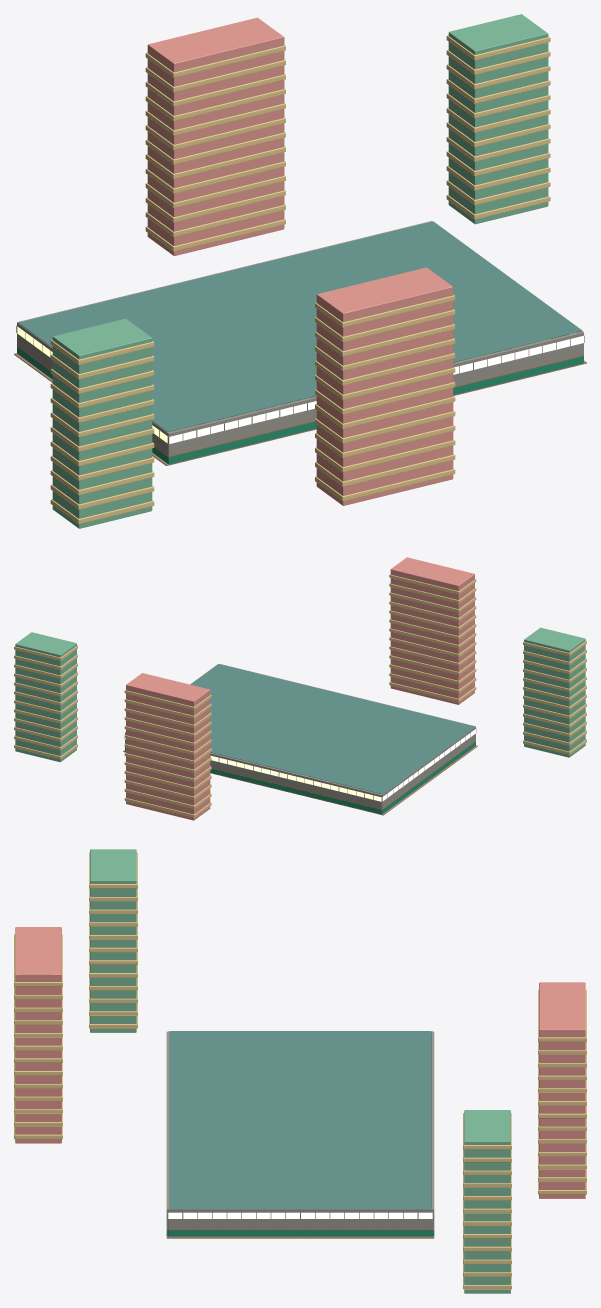
The model's file is wetmarket_lit.glb.
3 views of the same model, one above another, from view 1: azimuth 30°, elevation 25°; view 2: azimuth 150°, elevation 25°; view 3: azimuth 270°, elevation 25° (orthographic). The views are drawn at different scales.
Visible parts, largest first — view 1: MAP__hdb_b, ROOF__roof, MAP__hdb_band, MAP__hdb_a, MAP__wall, MAP__tile_green, MAP__glass, MAP__floor; view 2: ROOF__roof, MAP__hdb_b, MAP__hdb_band, MAP__hdb_a, MAP__wall, MAP__tile_green, MAP__glass, MAP__floor; view 3: ROOF__roof, MAP__hdb_b, MAP__hdb_band, MAP__hdb_a, MAP__wall, MAP__tile_green, MAP__glass, MAP__floor.
Part boxes in pixels (x1,y1,x2,y2): MAP__hdb_b: [147, 17, 453, 505]; ROOF__roof: [18, 221, 582, 432]; MAP__hdb_band: [50, 35, 550, 523]; MAP__hdb_a: [52, 14, 548, 528]; MAP__wall: [16, 221, 584, 456]; MAP__tile_green: [17, 337, 583, 464]; MAP__glass: [17, 326, 583, 443]; MAP__floor: [14, 344, 586, 465]; ROOF__roof: [190, 664, 474, 794]; MAP__hdb_b: [126, 557, 474, 820]; MAP__hdb_band: [14, 574, 586, 817]; MAP__hdb_a: [15, 627, 585, 762]; MAP__wall: [124, 663, 476, 809]; MAP__tile_green: [125, 741, 475, 814]; MAP__glass: [125, 729, 475, 801]; MAP__floor: [123, 745, 477, 815]; ROOF__roof: [169, 1031, 431, 1209]; MAP__hdb_b: [15, 927, 585, 1198]; MAP__hdb_band: [14, 852, 586, 1289]; MAP__hdb_a: [90, 849, 510, 1293]; MAP__wall: [166, 1031, 434, 1229]; MAP__tile_green: [166, 1230, 434, 1236]; MAP__glass: [168, 1212, 432, 1218]; MAP__floor: [166, 1236, 434, 1238].
Size of what is drawn, in the model's own units: 148 by 40.15 by 122.
66 materials, 7 textured.
